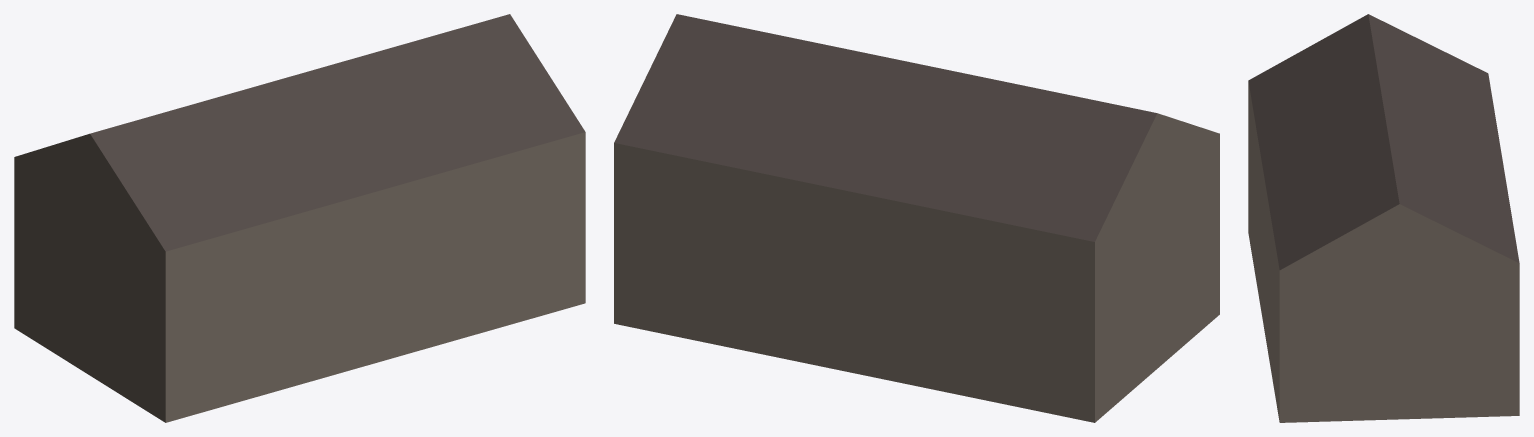
3 renders of one model, left to right at view 1: azimuth 30°, elevation 25°; view 2: azimuth 150°, elevation 25°; view 3: azimuth 270°, elevation 25°, orthographic. The views are drawn at different scales.
Parts seen in each view (by area): view 1: HP-w1200711939; view 2: HP-w1200711939; view 3: HP-w1200711939.
Part boxes in pixels (x1,y1,x2,y2): HP-w1200711939: [14, 14, 585, 422]; HP-w1200711939: [614, 14, 1219, 422]; HP-w1200711939: [1248, 14, 1519, 422].
Size of the model in its own units: 24.96 by 12.72 by 14.51.
